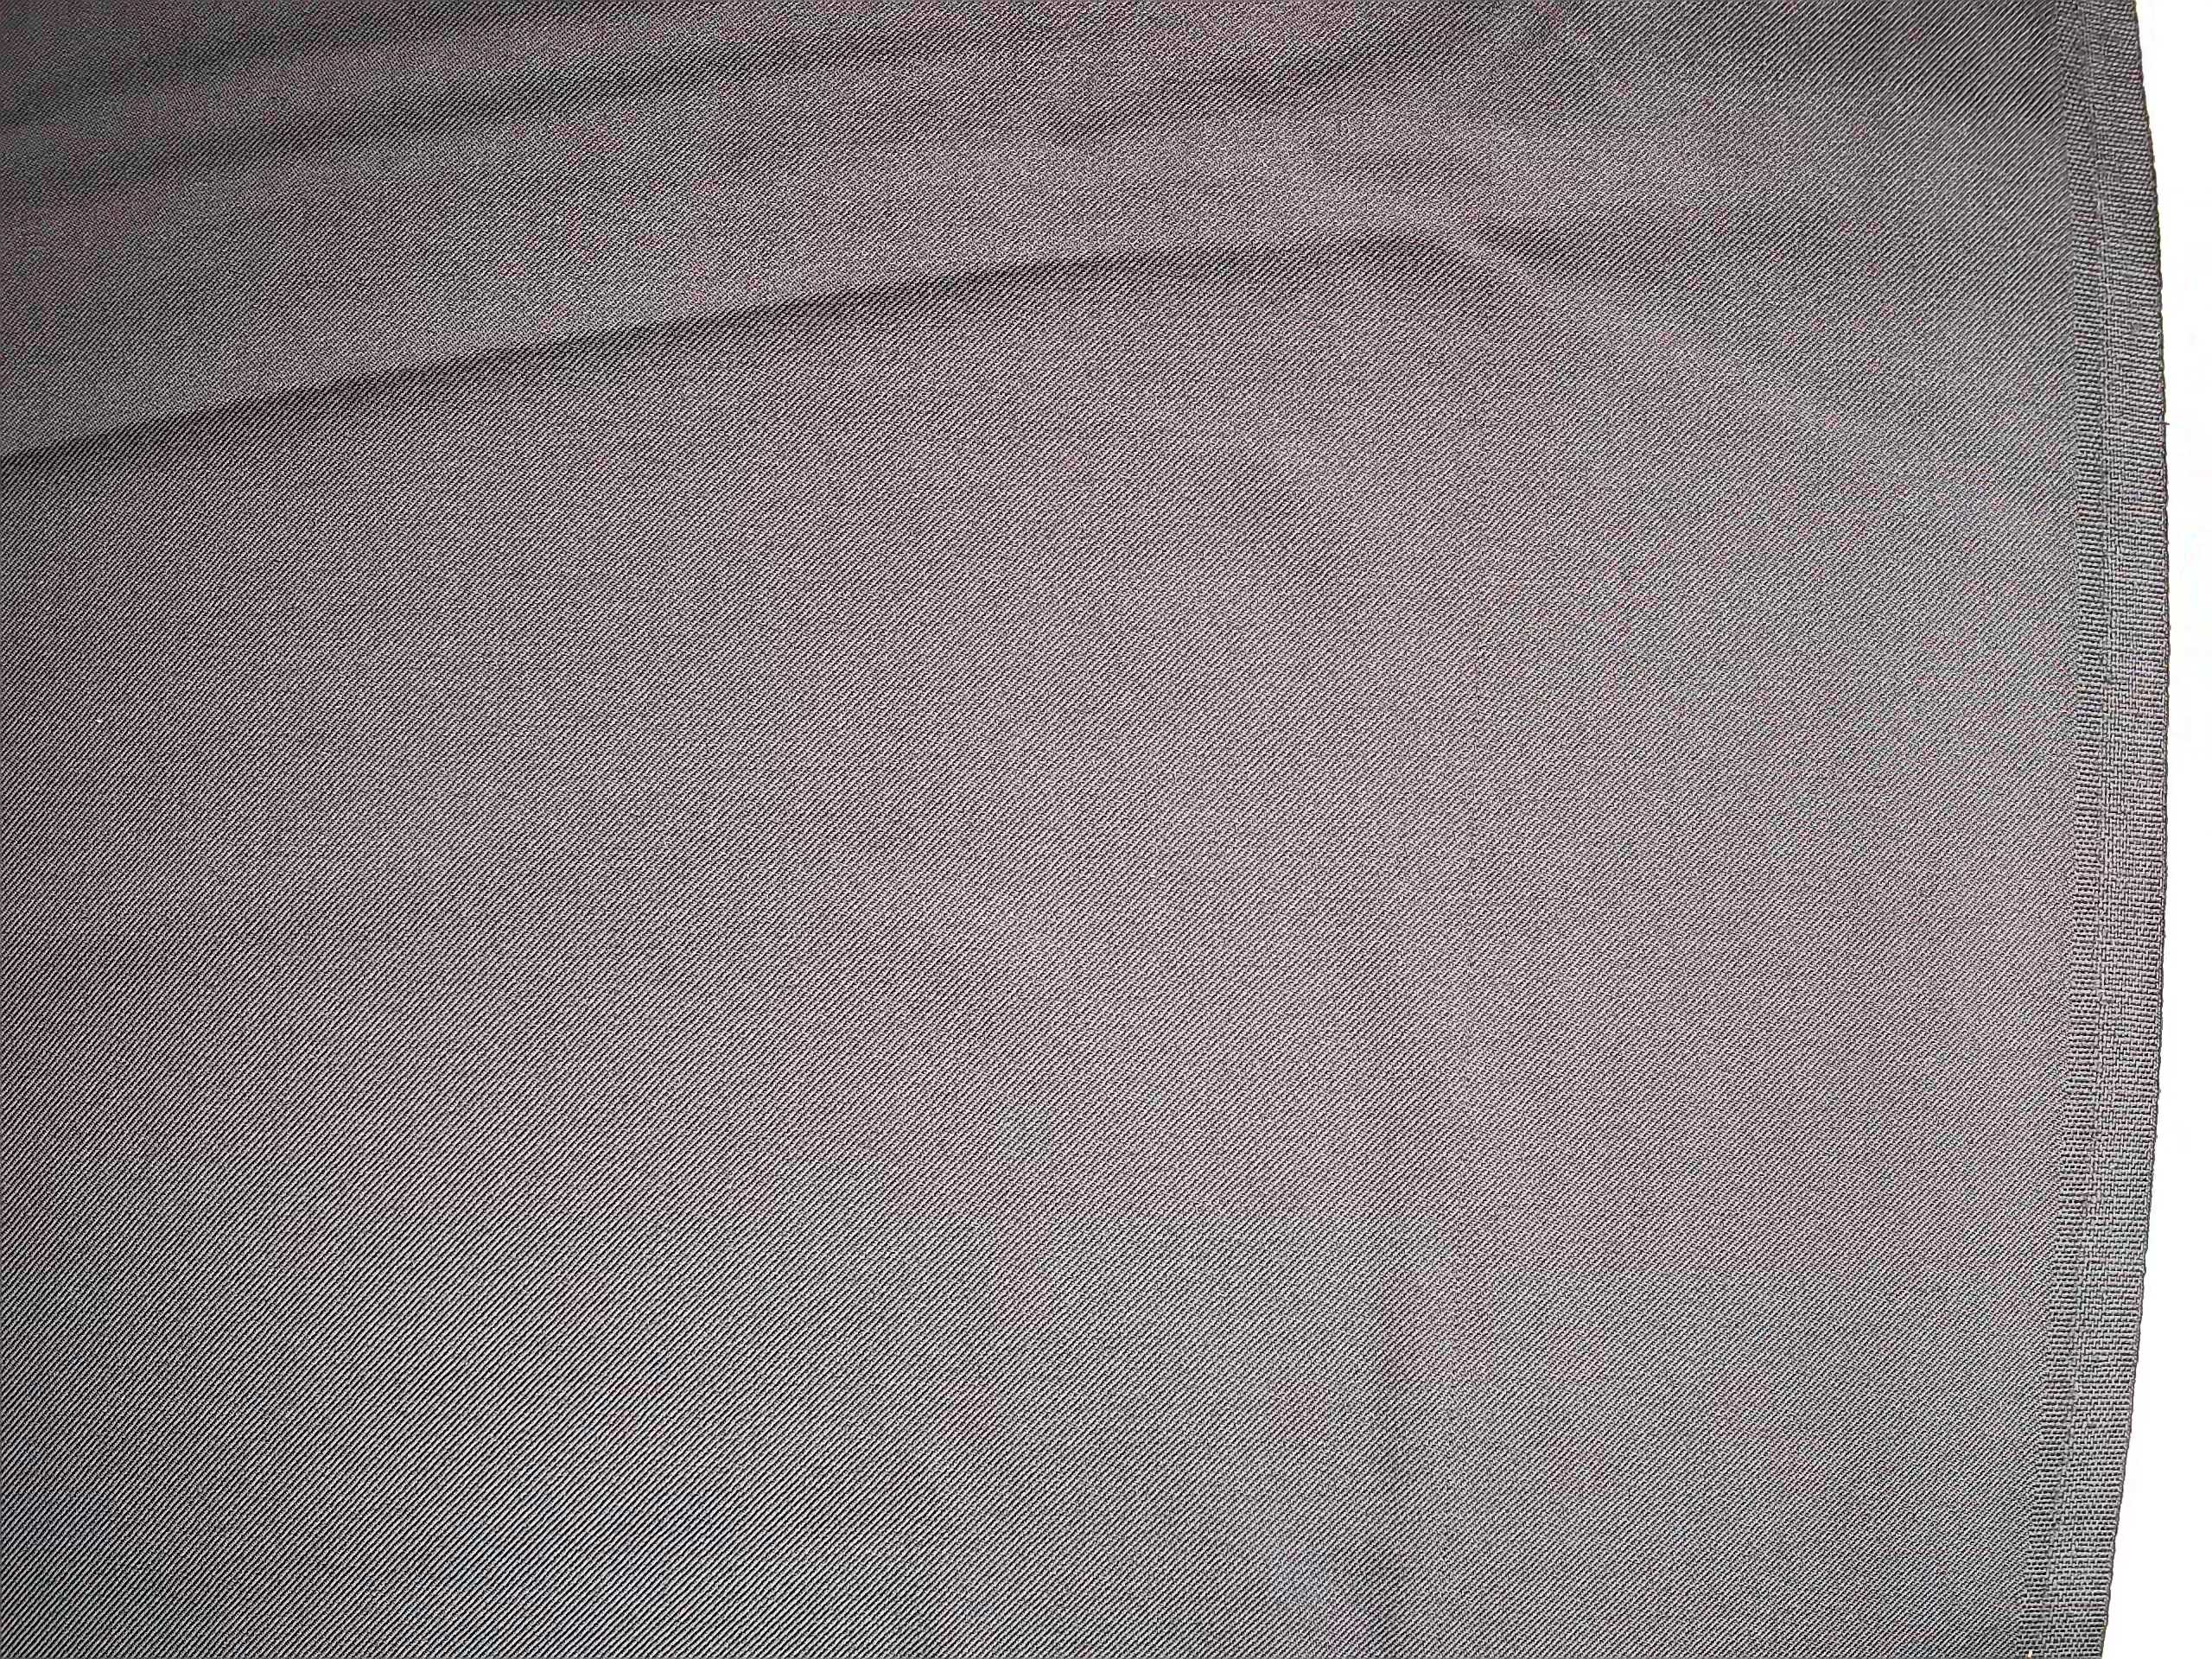hanging-warp: (1453, 96, 1524, 1469)
